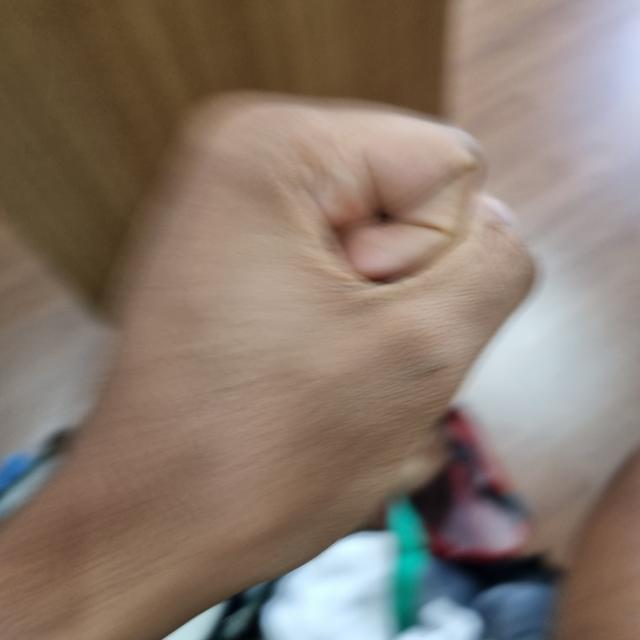Rock: (71, 93, 527, 599)
